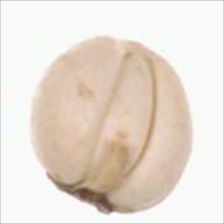L5: (90, 47, 157, 191), (42, 171, 139, 216)
L6: (26, 35, 193, 216)
